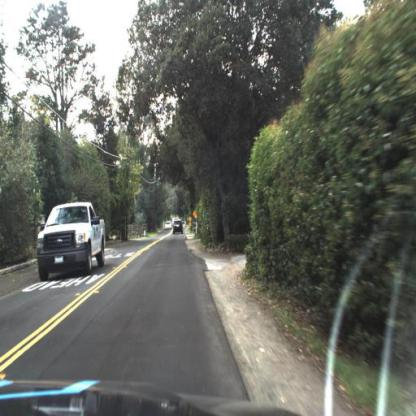car: (35, 200, 108, 281), (173, 221, 184, 237)
